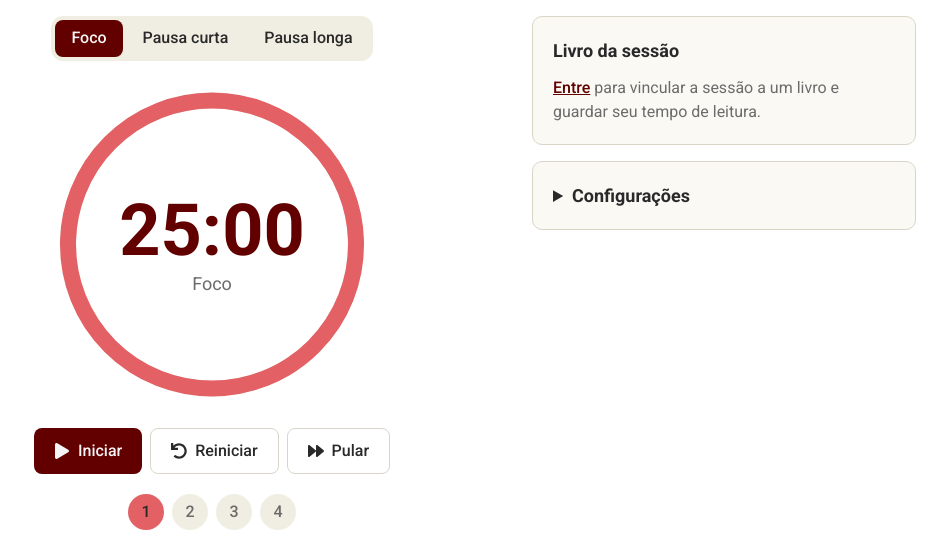
Test: Pomodoro › inicia, pausa e continua
This screenshot has width=933, height=547.
Click the button "Iniciar" at coordinates (88, 451), box top-left (34, 428), bottom-right (142, 474)
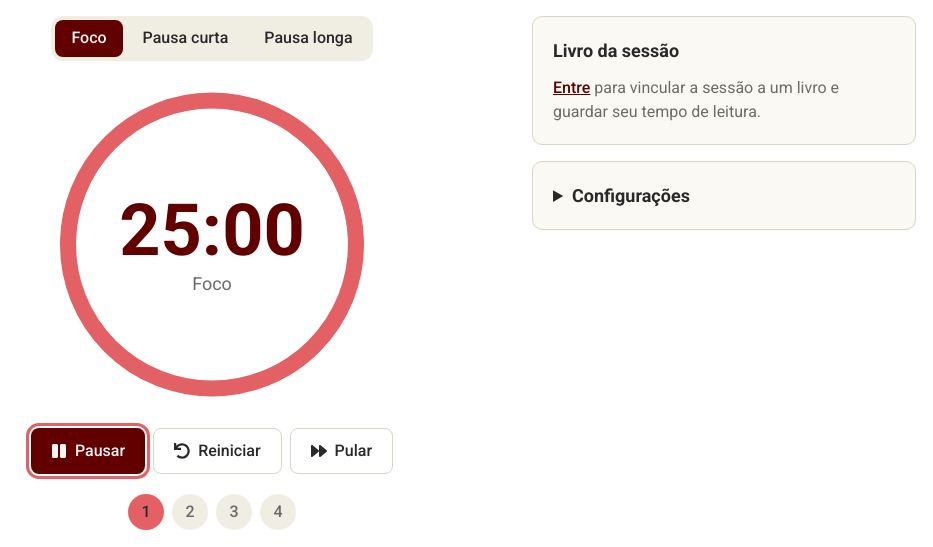
Click the button "Pausar" at coordinates (88, 451), box top-left (31, 428), bottom-right (145, 474)
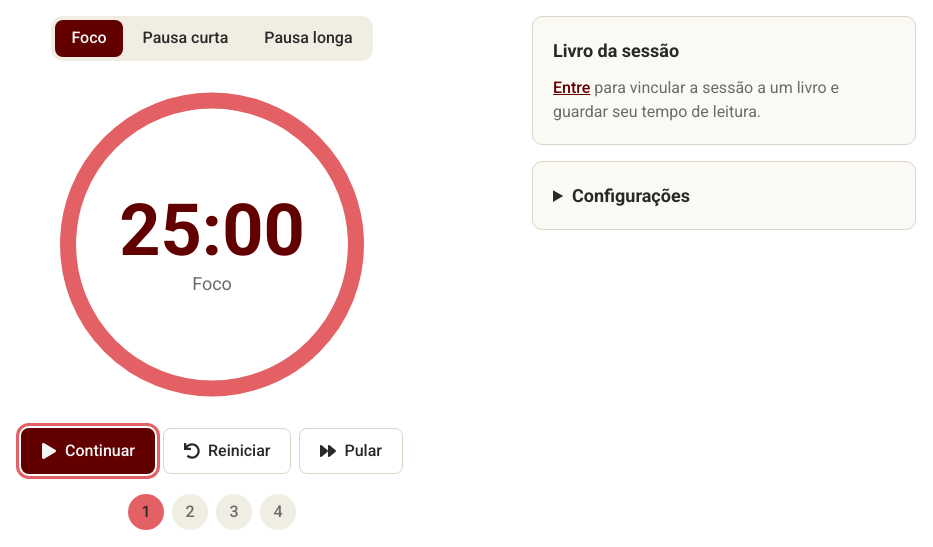
Result: the button "Continuar" is shown at top-left (21, 428), bottom-right (155, 474)
Click the button "Reiniciar" at coordinates (227, 451), box top-left (163, 428), bottom-right (291, 474)
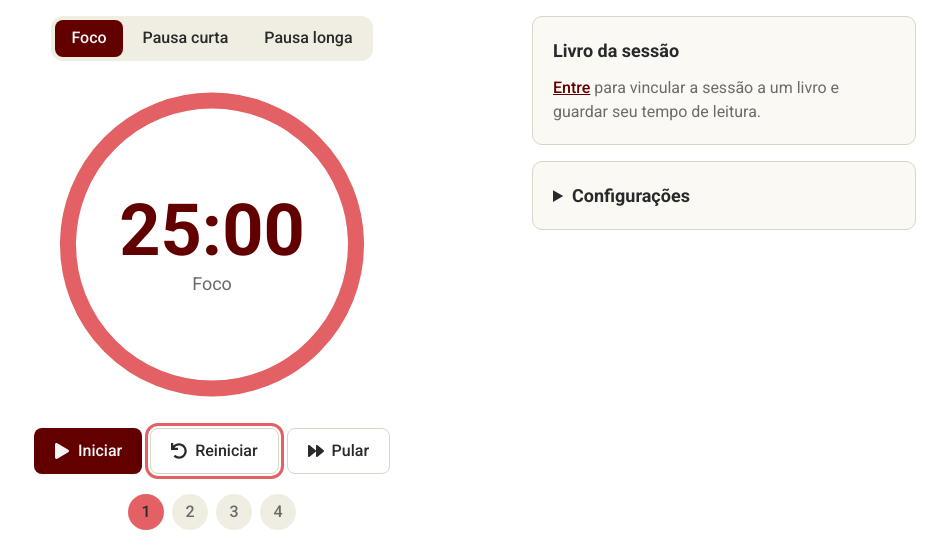
Expected: the heading "25:00" is shown, top-left (119, 191), bottom-right (305, 270)
Result: the button "Iniciar" is shown at top-left (34, 428), bottom-right (142, 474)
